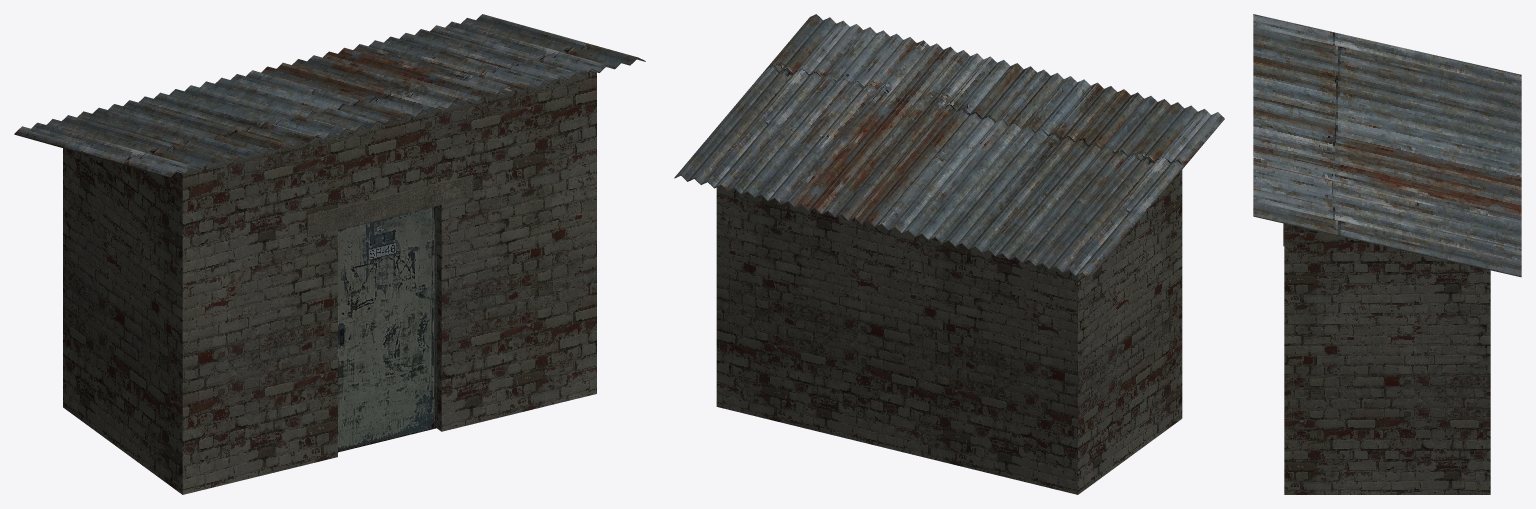
The model's file is shed_ax_4.glb.
The picture shows the model from 3 angles, left to right: view 1: azimuth 30°, elevation 25°; view 2: azimuth 150°, elevation 25°; view 3: azimuth 270°, elevation 25°; orthographic projection. The views are drawn at different scales.
Visible parts, largest first — view 1: shed_ax_4, door_hr_10; view 2: shed_ax_4; view 3: shed_ax_4.
Boxes of the visible parts, box(x1,y1,x2,y2) form: shed_ax_4: box(14, 14, 645, 494); door_hr_10: box(338, 206, 436, 452); shed_ax_4: box(674, 14, 1224, 494); shed_ax_4: box(1253, 14, 1521, 494).
Bounding box in the file's own units: 4.59 × 3.17 × 2.6.
Materials: 5 (5 with a texture image).
